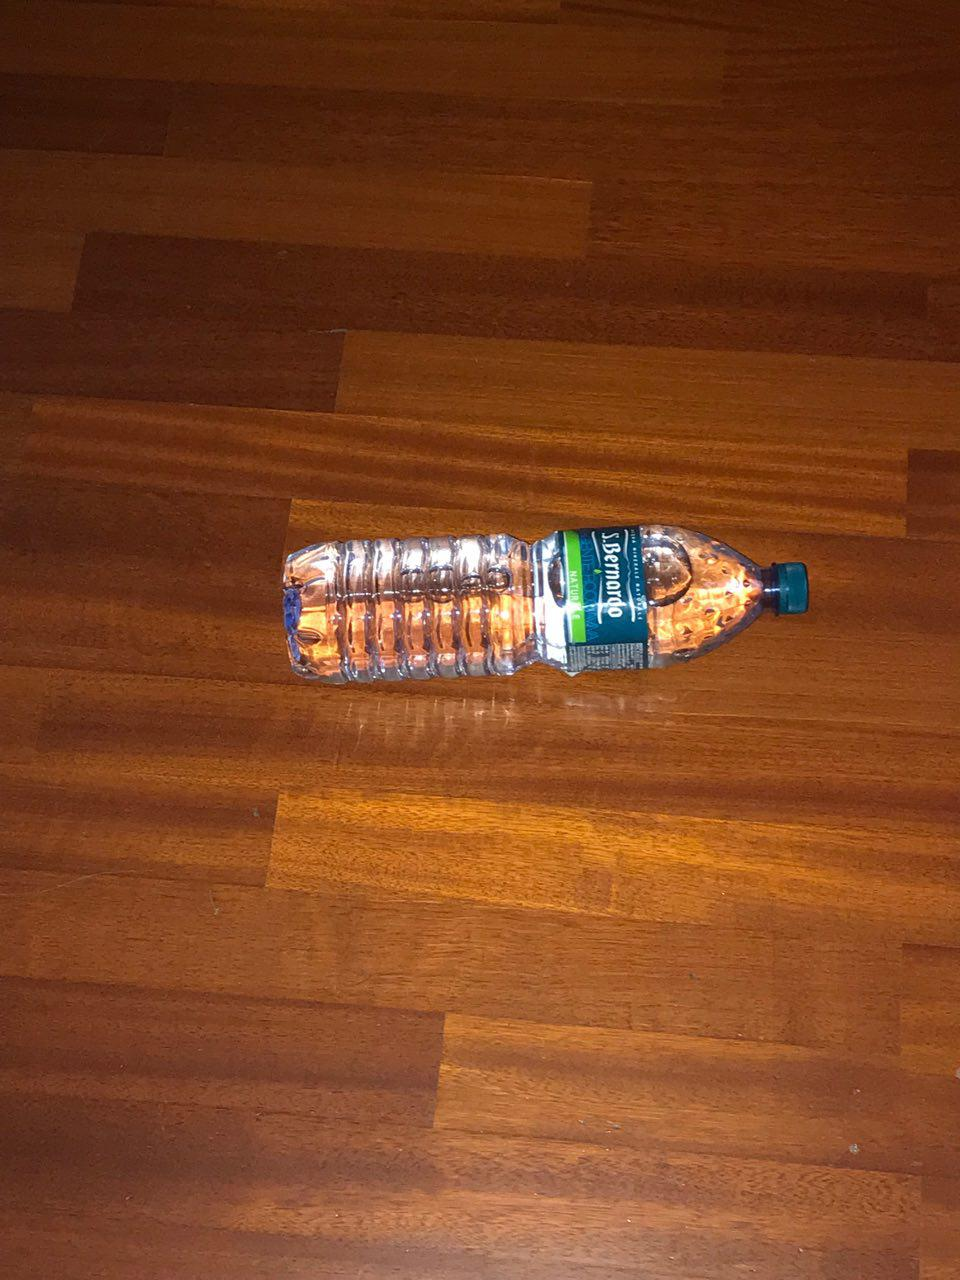san_bernardo: (281, 523, 810, 686)
